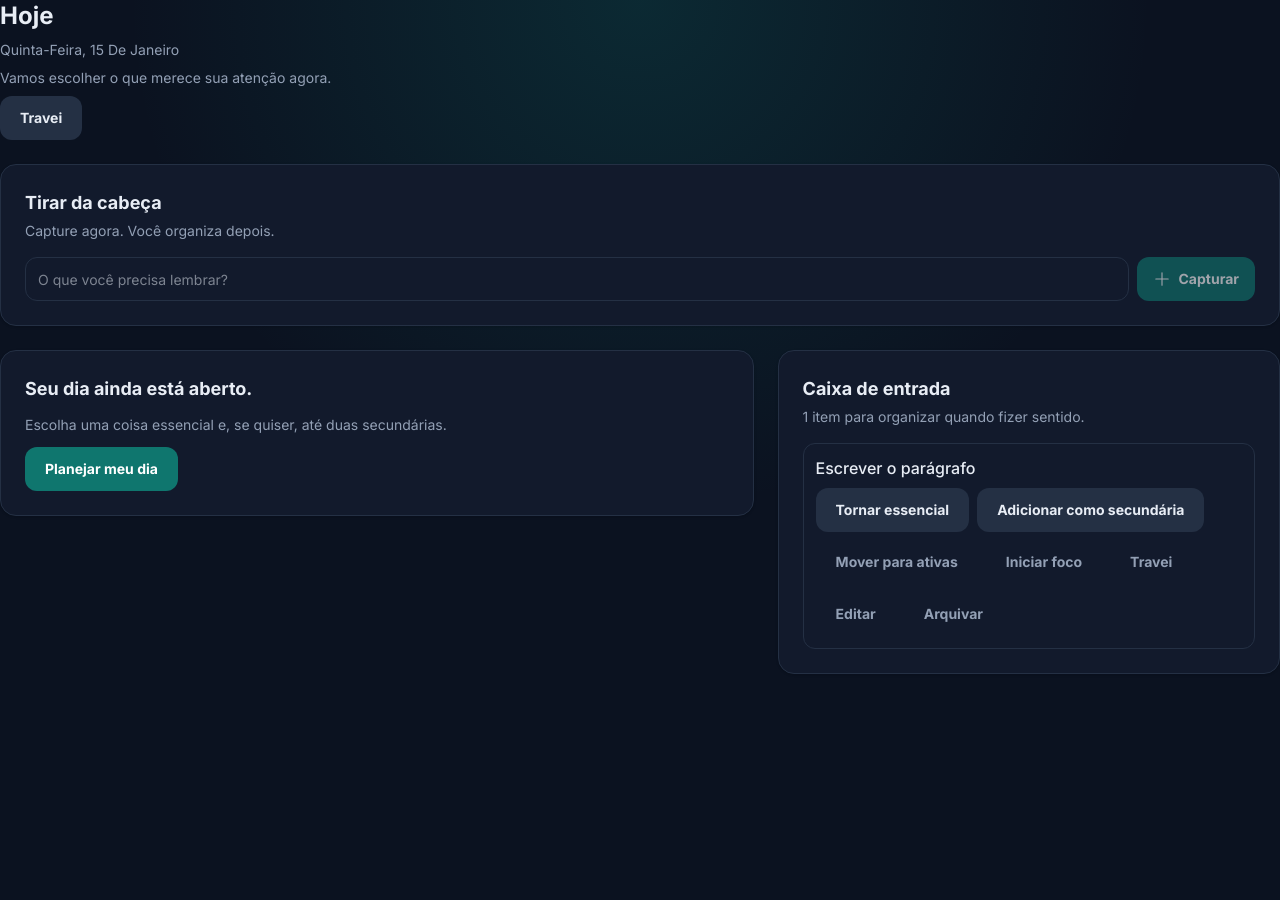
Test: Today screen › planning › plans an inbox task as essential with the same id
Expected: the heading "Hoje" is shown, [0, 1, 54, 30]
Click the button "Planejar meu dia".
click(101, 469)  # box [25, 447, 178, 491]
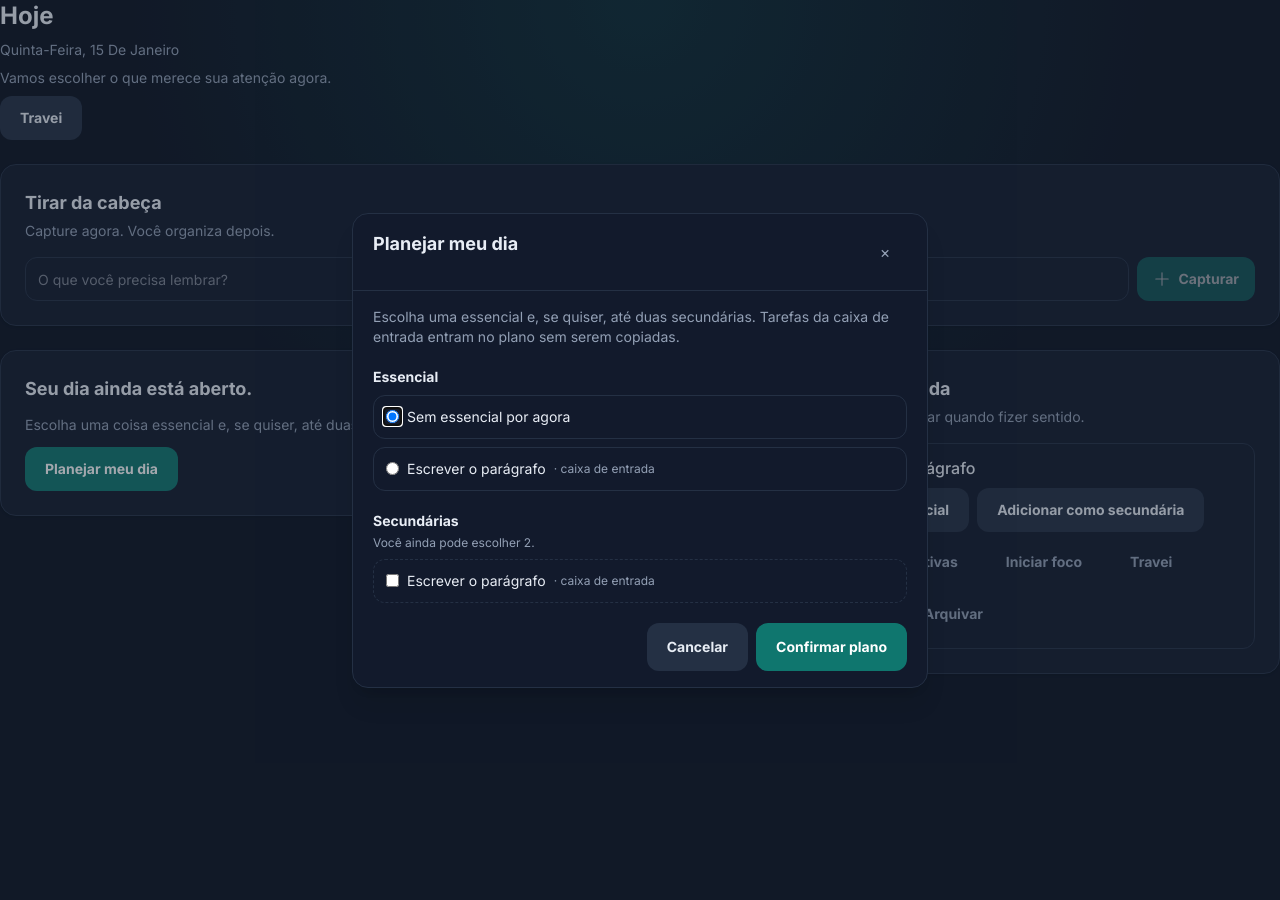
Click the radio button labelled "Escrever o parágrafo · caixa de entrada".
click(392, 468)  # box [386, 462, 399, 475]
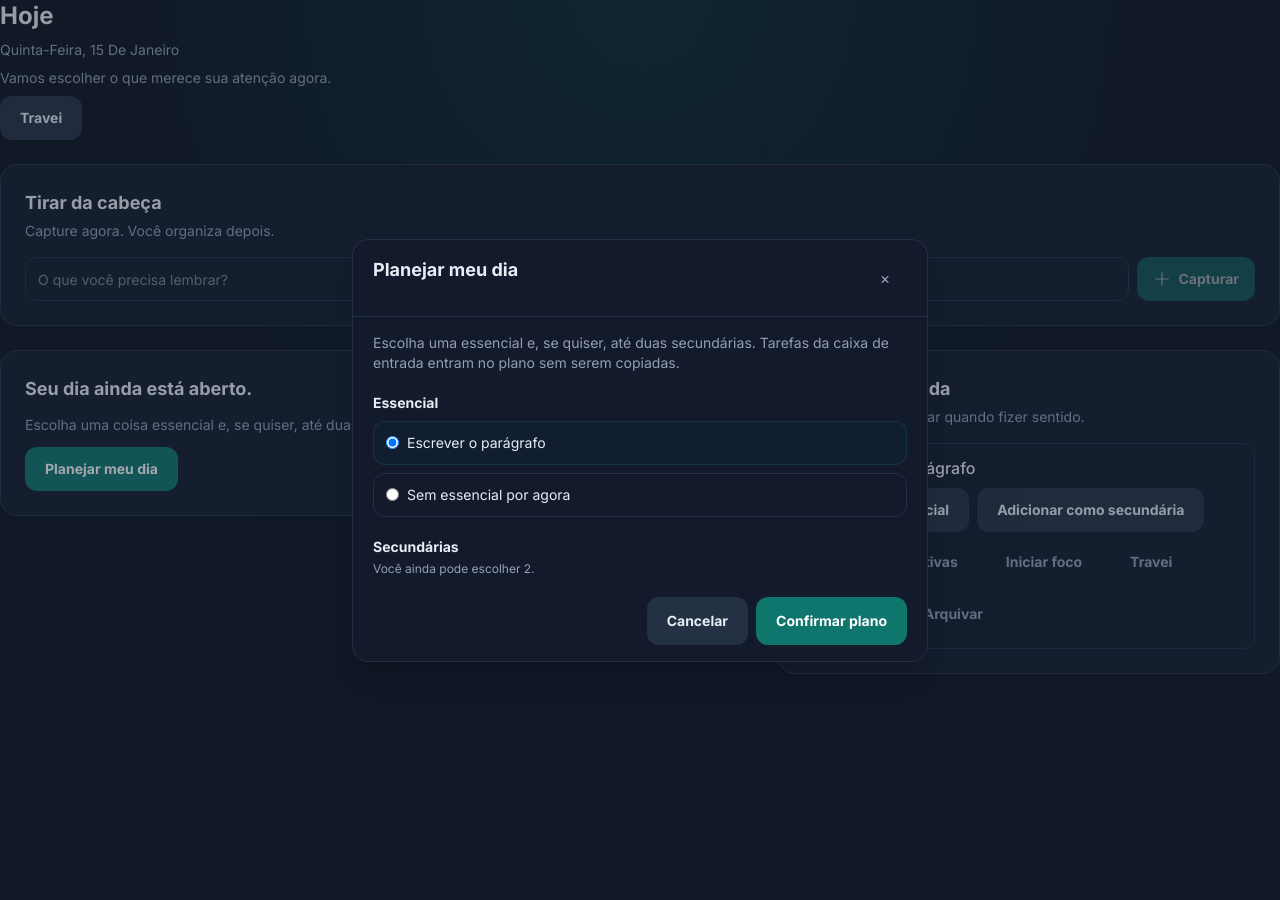
Click the button "Confirmar plano".
click(832, 620)  # box [756, 596, 907, 644]
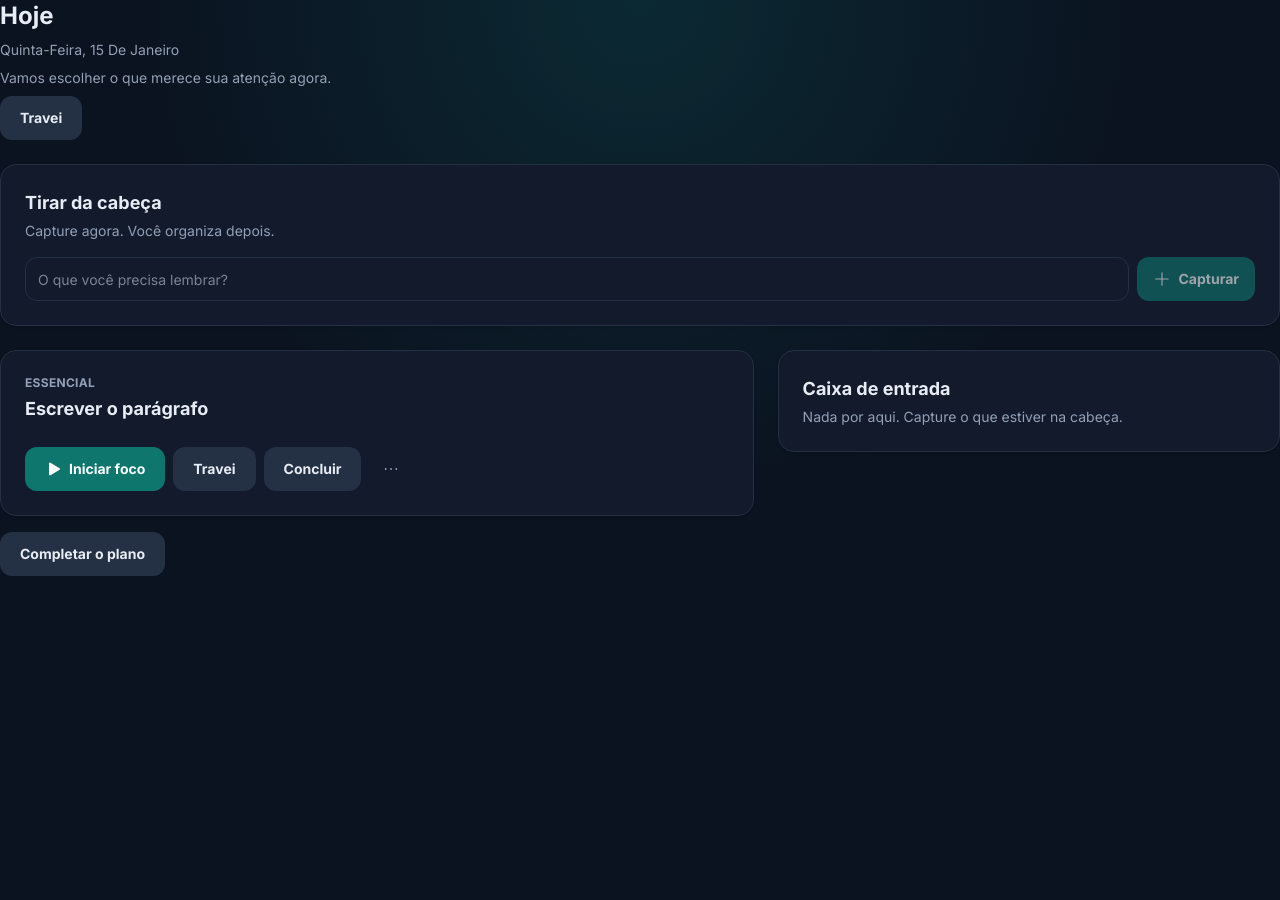
Expected: the text "Essencial" is shown, [25, 375, 95, 390]
Expected: the text "Nada por aqui. Capture o que estiver na cabeça." is shown, [803, 408, 1123, 425]
